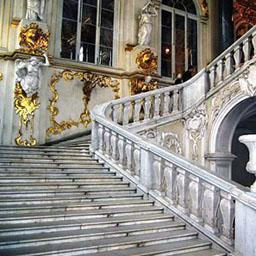Escaleras: (1, 141, 251, 252), (59, 35, 247, 142)
